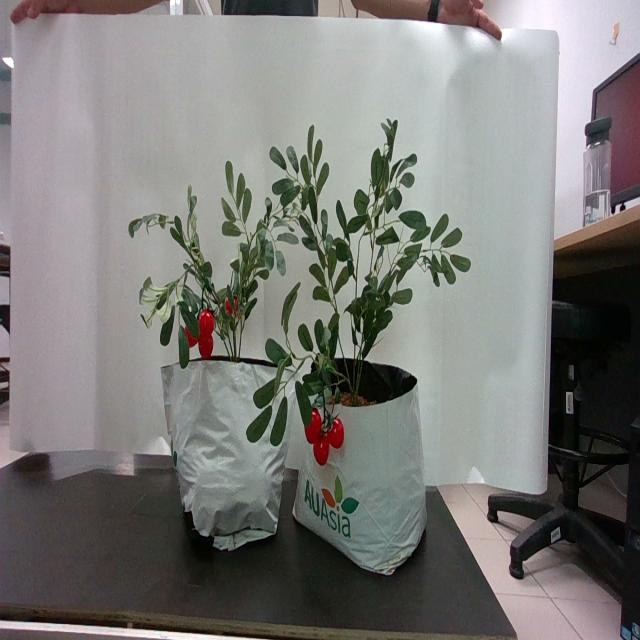Soilbag: (160, 356, 314, 552), (292, 358, 428, 578)
Tomato: (302, 404, 344, 466), (196, 311, 218, 360)
plant: (247, 119, 472, 458), (128, 161, 275, 363)
